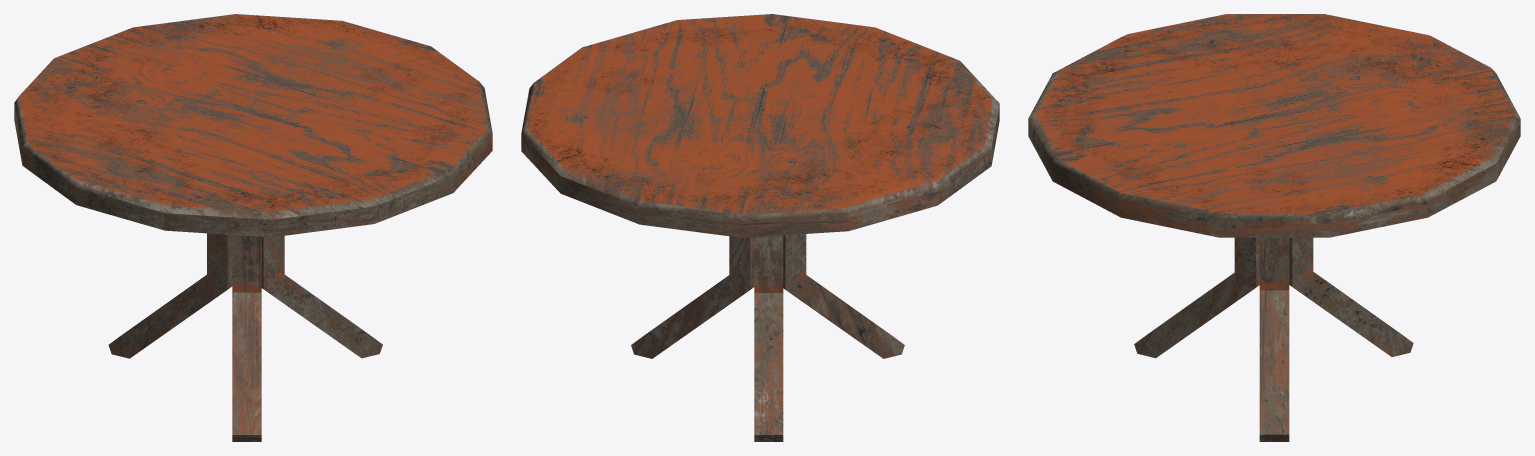
File: table.glb
3 views of the same model, side by side, from view 1: azimuth 30°, elevation 25°; view 2: azimuth 150°, elevation 25°; view 3: azimuth 270°, elevation 25° (orthographic).
Parts seen in each view (by area): view 1: Object_3; view 2: Object_3; view 3: Object_3.
Boxes of the visible parts, box(x1,y1,x2,y2) form: Object_3: box(14, 14, 492, 441); Object_3: box(521, 14, 999, 441); Object_3: box(1028, 14, 1520, 441).
Bounding box in the file's own units: 1.95 × 1.21 × 2.
1 material, 1 textured.
